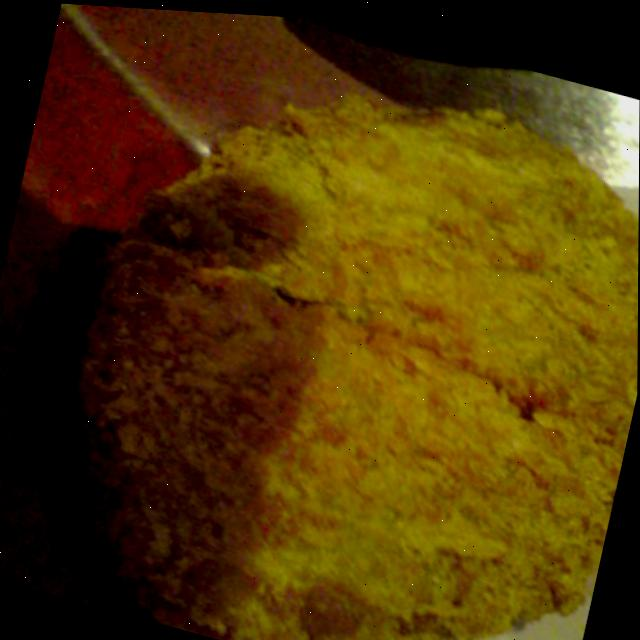炸货点心: (32, 13, 640, 640)
